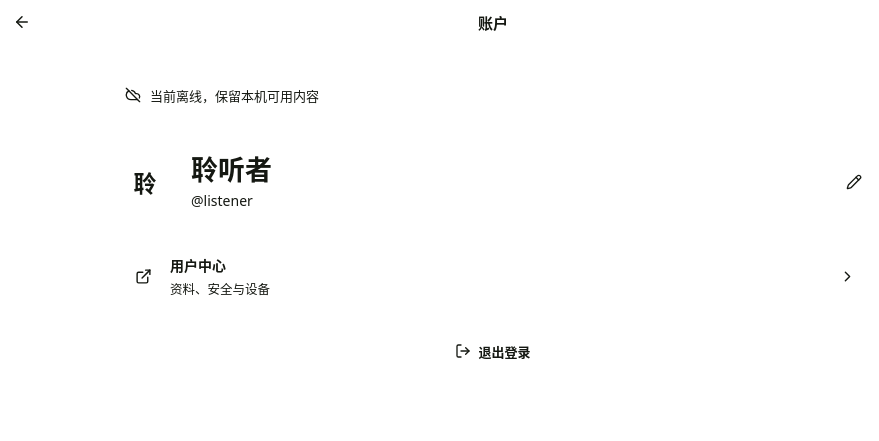
Test: AccountSpace › keeps the account signed in when offline changes are still pending
The image size is (879, 441).
What coordinates should you click on to do the following:
click the button "退出登录"
I would click on:
 (493, 351)
Its box is [442,332,544,370].
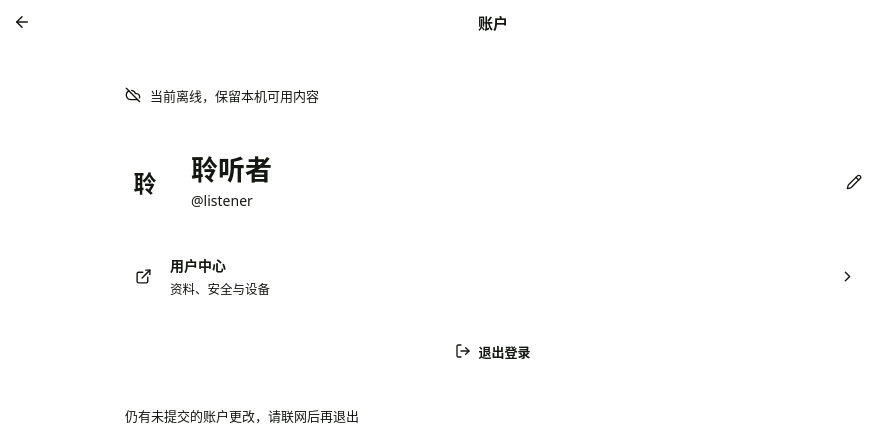
Check: the text "仍有未提交的账户更改，请联网后再退出" is shown, box [125,406,359,424]
